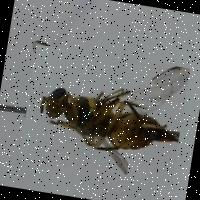Oriental-fruit-fly: (19, 45, 190, 182)
